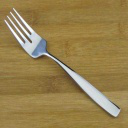fork: (1, 4, 122, 121)
